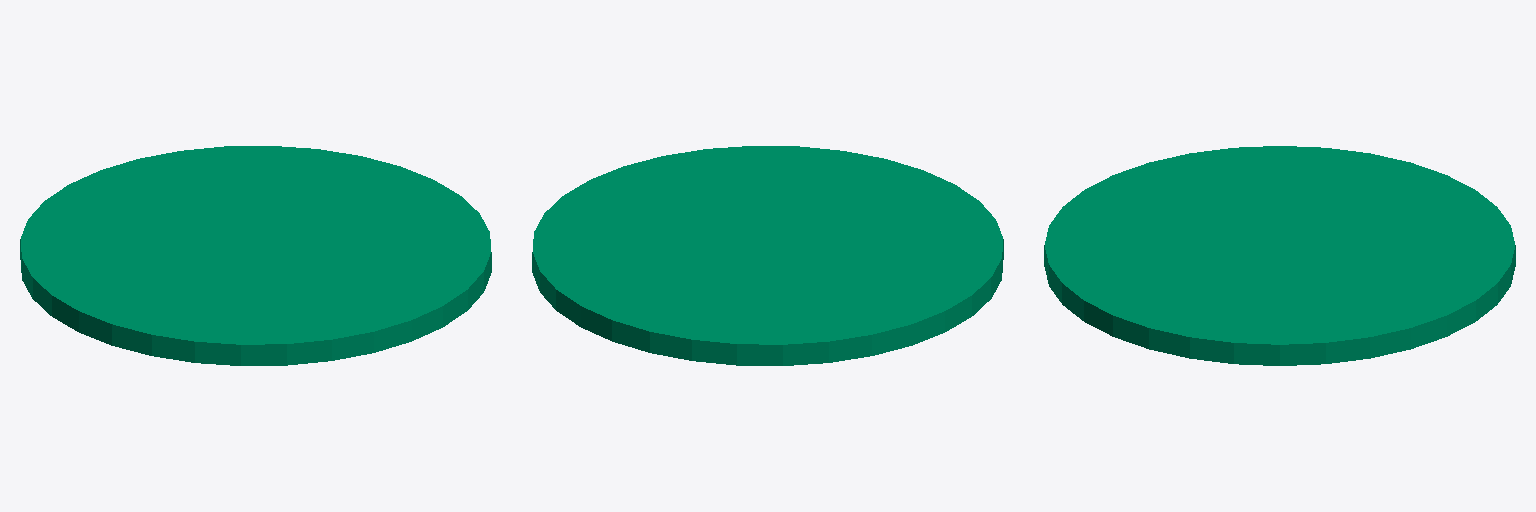
robot.urdf — panda:
<?xml version="1.0" ?>
<robot name="panda" xmlns:xacro="http://www.ros.org/wiki/xacro">
  <link name="base"/>
  <link name="basex">
    <visual>
      <origin xyz="0 0 -0.02"/>
      <geometry>
        <!-- <box size="1.4 1.2 0.01"/> -->
        <cylinder radius="0.001" length="0.001" />
      </geometry>
    </visual>
    <!-- <collision>
      <geometry>
        <cylinder radius="0.01" length="0.02" />
      </geometry>
    </collision> -->
  </link>
  <link name="basey">
    <visual>
      <origin xyz="0 0 -0.01"/>
      <geometry>
        <!-- <box size="0.1 0.1 0.01"/> -->
        <cylinder radius="0.20" length="0.02" />
      </geometry>
    </visual>
    <!-- <collision>
      <geometry>
        <cylinder radius="0.20" length="0.02" />
      </geometry>
    </collision> -->
  </link>
  <link name="panda_link0">
    <visual>
      <geometry>
        <mesh filename="package://franka_description/meshes/visual/link0.dae"/>
      </geometry>
    </visual>
    <collision>
      <geometry>
        <mesh filename="package://franka_description/meshes/collision/link0.obj"/>
      </geometry>
    </collision>
  </link>
  <link name="panda_link1">
    <visual>
      <geometry>
        <mesh filename="package://franka_description/meshes/visual/link1.dae"/>
      </geometry>
    </visual>
    <collision>
      <geometry>
        <mesh filename="package://franka_description/meshes/collision/link1.obj"/>
      </geometry>
    </collision>
  </link>
  <joint name="panda_joint1" type="revolute">
    <safety_controller k_position="100.0" k_velocity="40.0" soft_lower_limit="-2.8973" soft_upper_limit="2.8973"/>
    <origin rpy="0 0 0" xyz="0 0 0.333"/>
    <parent link="panda_link0"/>
    <child link="panda_link1"/>
    <axis xyz="0 0 1"/>
    <dynamics damping="10.0"/>
    <limit effort="87" lower="-2.8973" upper="2.8973" velocity="2.1750"/>
  </joint>
  <link name="panda_link2">
    <visual>
      <geometry>
        <mesh filename="package://franka_description/meshes/visual/link2.dae"/>
      </geometry>
    </visual>
    <collision>
      <geometry>
        <mesh filename="package://franka_description/meshes/collision/link2.obj"/>
      </geometry>
    </collision>
  </link>
  <joint name="panda_joint2" type="revolute">
    <safety_controller k_position="100.0" k_velocity="40.0" soft_lower_limit="-1.7628" soft_upper_limit="1.7628"/>
    <origin rpy="-1.57079632679 0 0" xyz="0 0 0"/>
    <parent link="panda_link1"/>
    <child link="panda_link2"/>
    <axis xyz="0 0 1"/>
    <dynamics damping="10.0"/>
    <limit effort="87" lower="-1.7628" upper="1.7628" velocity="2.1750"/>
  </joint>
  <link name="panda_link3">
    <visual>
      <geometry>
        <mesh filename="package://franka_description/meshes/visual/link3.dae"/>
      </geometry>
    </visual>
    <collision>
      <geometry>
        <mesh filename="package://franka_description/meshes/collision/link3.obj"/>
      </geometry>
    </collision>
  </link>
  <joint name="panda_joint3" type="revolute">
    <safety_controller k_position="100.0" k_velocity="40.0" soft_lower_limit="-2.8973" soft_upper_limit="2.8973"/>
    <origin rpy="1.57079632679 0 0" xyz="0 -0.316 0"/>
    <parent link="panda_link2"/>
    <child link="panda_link3"/>
    <axis xyz="0 0 1"/>
    <dynamics damping="10.0"/>
    <limit effort="87" lower="-2.8973" upper="2.8973" velocity="2.1750"/>
  </joint>
  <link name="panda_link4">
    <visual>
      <geometry>
        <mesh filename="package://franka_description/meshes/visual/link4.dae"/>
      </geometry>
    </visual>
    <collision>
      <geometry>
        <mesh filename="package://franka_description/meshes/collision/link4.obj"/>
      </geometry>
    </collision>
  </link>
  <joint name="panda_joint4" type="revolute">
    <safety_controller k_position="100.0" k_velocity="40.0" soft_lower_limit="-3.0718" soft_upper_limit="-0.0698"/>
    <origin rpy="1.57079632679 0 0" xyz="0.0825 0 0"/>
    <parent link="panda_link3"/>
    <child link="panda_link4"/>
    <axis xyz="0 0 1"/>    
    <dynamics damping="10.0"/>
    <limit effort="87" lower="-3.0718" upper="-0.0698" velocity="2.1750"/>
    <!-- something is weird with this joint limit config
    <dynamics damping="10.0"/>
    <limit effort="87" lower="-3.0" upper="0.087" velocity="2.1750"/>  -->
  </joint>
  <link name="panda_link5">
    <visual>
      <geometry>
        <mesh filename="package://franka_description/meshes/visual/link5.dae"/>
      </geometry>
    </visual>
    <collision>
      <geometry>
        <mesh filename="package://franka_description/meshes/collision/link5.obj"/>
      </geometry>
    </collision>
  </link>
  <joint name="panda_joint5" type="revolute">
    <safety_controller k_position="100.0" k_velocity="40.0" soft_lower_limit="-2.8973" soft_upper_limit="2.8973"/>
    <origin rpy="-1.57079632679 0 0" xyz="-0.0825 0.384 0"/>
    <parent link="panda_link4"/>
    <child link="panda_link5"/>
    <axis xyz="0 0 1"/>
    <dynamics damping="10.0"/>
    <limit effort="12" lower="-2.8973" upper="2.8973" velocity="2.6100"/>
  </joint>
  <link name="panda_link6">
    <visual>
      <geometry>
        <mesh filename="package://franka_description/meshes/visual/link6.dae"/>
      </geometry>
    </visual>
    <collision>
      <geometry>
        <mesh filename="package://franka_description/meshes/collision/link6.obj"/>
      </geometry>
    </collision>
  </link>
  <joint name="panda_joint6" type="revolute">
    <safety_controller k_position="100.0" k_velocity="40.0" soft_lower_limit="-0.0175" soft_upper_limit="3.7525"/>
    <origin rpy="1.57079632679 0 0" xyz="0 0 0"/>
    <parent link="panda_link5"/>
    <child link="panda_link6"/>
    <axis xyz="0 0 1"/>
    <dynamics damping="10.0"/>
    <limit effort="12" lower="-0.0175" upper="3.7525" velocity="2.6100"/>
    <!-- <dynamics damping="10.0"/>
    <limit effort="12" lower="-0.0873" upper="3.0" velocity="2.6100"/> -->
  </joint>
  <link name="panda_link7">
    <visual>
      <geometry>
        <mesh filename="package://franka_description/meshes/visual/link7.dae"/>
      </geometry>
    </visual>
    <collision>
      <geometry>
        <mesh filename="package://franka_description/meshes/collision/link7.obj"/>
      </geometry>
    </collision>
  </link>
  <joint name="panda_joint7" type="revolute">
    <safety_controller k_position="100.0" k_velocity="40.0" soft_lower_limit="-2.8973" soft_upper_limit="2.8973"/>
    <origin rpy="1.57079632679 0 0" xyz="0.088 0 0"/>
    <parent link="panda_link6"/>
    <child link="panda_link7"/>
    <axis xyz="0 0 1"/>
    <dynamics damping="10.0"/>
    <limit effort="12" lower="-2.8973" upper="2.8973" velocity="2.6100"/>
  </joint>
  <!--
  <link name="panda_link8"/>
  <joint name="panda_joint8" type="fixed">
    <origin rpy="0 0 0" xyz="0 0 0.107"/>
    <parent link="panda_link7"/>
    <child link="panda_link8"/>
    <axis xyz="0 0 0"/>
  </joint>
  Removing this joint seems to help with some stability things
  -->
  <joint name="panda_hand_joint" type="fixed">
    <!--
    <parent link="panda_link8"/>
    -->
    <parent link="panda_link7"/>
    <child link="panda_hand"/>
    <origin rpy="0 0 -0.785398163397" xyz="0 0 0.107"/>
    <!--
    <origin rpy="0 0 -0.785398163397" xyz="0 0 0"/>
    -->
  </joint>
  <link name="panda_hand">
    <visual>
      <geometry>
        <mesh filename="package://franka_description/meshes/visual/hand.dae"/>
      </geometry>
    </visual>
    <collision>
      <geometry>
        <mesh filename="package://franka_description/meshes/collision/hand.obj"/>
      </geometry>
    </collision>
  </link>
  <link name="panda_leftfinger">
    <visual>
      <geometry>
        <mesh filename="package://franka_description/meshes/visual/finger.dae"/>
      </geometry>
    </visual>
    <collision>
      <geometry>
        <mesh filename="package://franka_description/meshes/collision/finger.obj"/>
      </geometry>
    </collision>
  </link>
  <link name="panda_rightfinger">
    <visual>
      <origin rpy="0 0 3.14159265359" xyz="0 0 0"/>
      <geometry>
        <mesh filename="package://franka_description/meshes/visual/finger.dae"/>
      </geometry>
    </visual>
    <collision>
      <origin rpy="0 0 3.14159265359" xyz="0 0 0"/>
      <geometry>
        <mesh filename="package://franka_description/meshes/collision/finger.obj"/>
      </geometry>
    </collision>
  </link>
  <joint name="panda_finger_joint1" type="prismatic">
    <parent link="panda_hand"/>
    <child link="panda_leftfinger"/>
    <origin rpy="0 0 0" xyz="0 0 0.0584"/>
    <axis xyz="0 1 0"/>
    <dynamics damping="10.0"/>
    <limit effort="100" lower="0.0" upper="0.04" velocity="1.0"/>
  </joint>
  <joint name="panda_finger_joint2" type="prismatic">
    <parent link="panda_hand"/>
    <child link="panda_rightfinger"/>
    <origin rpy="0 0 0" xyz="0 0 0.0584"/>
    <axis xyz="0 -1 0"/>
    <dynamics damping="10.0"/>
    <limit effort="100" lower="0.0" upper="0.04" velocity="1.0"/>
    <mimic joint="panda_finger_joint1"/>
  </joint>
  <joint name="z_free_base1" type="prismatic">
    <origin rpy="0 0 0" xyz="0 0 -0.01"/>
    <parent link="base"/>
    <child link="basex"/>
    <axis xyz="1 0 0"/>
    <dynamics damping="10.0"/>
    <limit effort="50" lower="-1.0" upper="1.0" velocity="1.0"/>
  </joint>
  <joint name="z_free_base2" type="prismatic">
    <origin rpy="0 0 0" xyz="0 0 0"/>
    <parent link="basex"/>
    <child link="basey"/>
    <axis xyz="0 1 0"/>
    <dynamics damping="10.0"/>
    <limit effort="50" lower="-1.0" upper="1.0" velocity="1.0"/>
  </joint>
  <joint name="z_free_base3" type="fixed">
    <origin rpy="0 0 0" xyz="0 0 0"/>
    <parent link="basey"/>
    <child link="panda_link0"/>
  </joint>
  <!-- <joint name="z_free_base1" type="prismatic">
    <origin rpy="0 0 0" xyz="0 0 -0.01"/>
    <parent link="basex"/>
    <child link="basey"/>
    <axis xyz="1 0 0"/>
    <dynamics damping="10.0"/>
    <limit effort="100" lower="-0.6" upper="0.6" velocity="1.0"/>
  </joint>
  <joint name="z_free_base2" type="prismatic">
    <origin rpy="0 0 0" xyz="0 0 0"/>
    <parent link="basey"/>
    <child link="panda_link0"/>
    <axis xyz="0 1 0"/>
    <dynamics damping="10.0"/>
    <limit effort="50" lower="-0.5" upper="0.5" velocity="0.3"/>
  </joint> -->
</robot>

--- Render facts (derived) ---
Views: 3 orthographic renders of the robot side by side, from view 1: azimuth 30°, elevation 25°; view 2: azimuth 150°, elevation 25°; view 3: azimuth 270°, elevation 25°.
Model panda with 14 links and 13 joints (7 revolute, 4 prismatic, 2 fixed), rooted at base, posed joints at zero except 1 at the middle of their limits (panda_joint4 = -1.57).
Visible links, largest first — view 1: basey; view 2: basey; view 3: basey.
Boxes of the visible links, x1,y1,x2,y2 form: basey: [20, 146, 491, 365]; basey: [532, 146, 1003, 365]; basey: [1044, 146, 1515, 365].
Bounding box of the posed robot: 0.4 × 0.4 × 0.0205 m (x, y, z).
0 mesh visuals loaded from 10 distinct referenced files (none loaded); not drawn: 11 (reference not matched to a file when rendering).